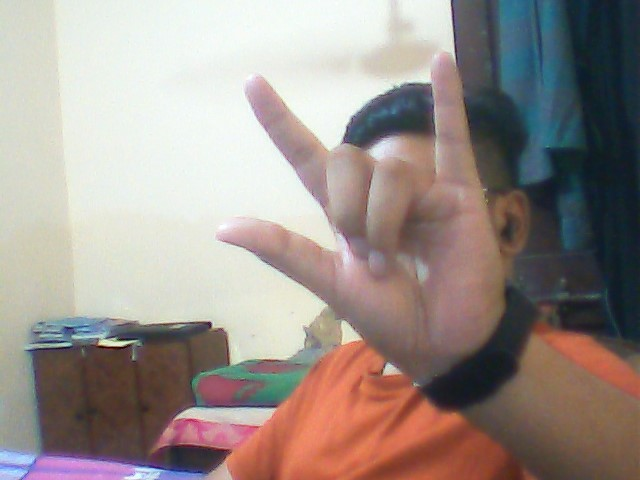Cheers: (215, 53, 554, 351)
